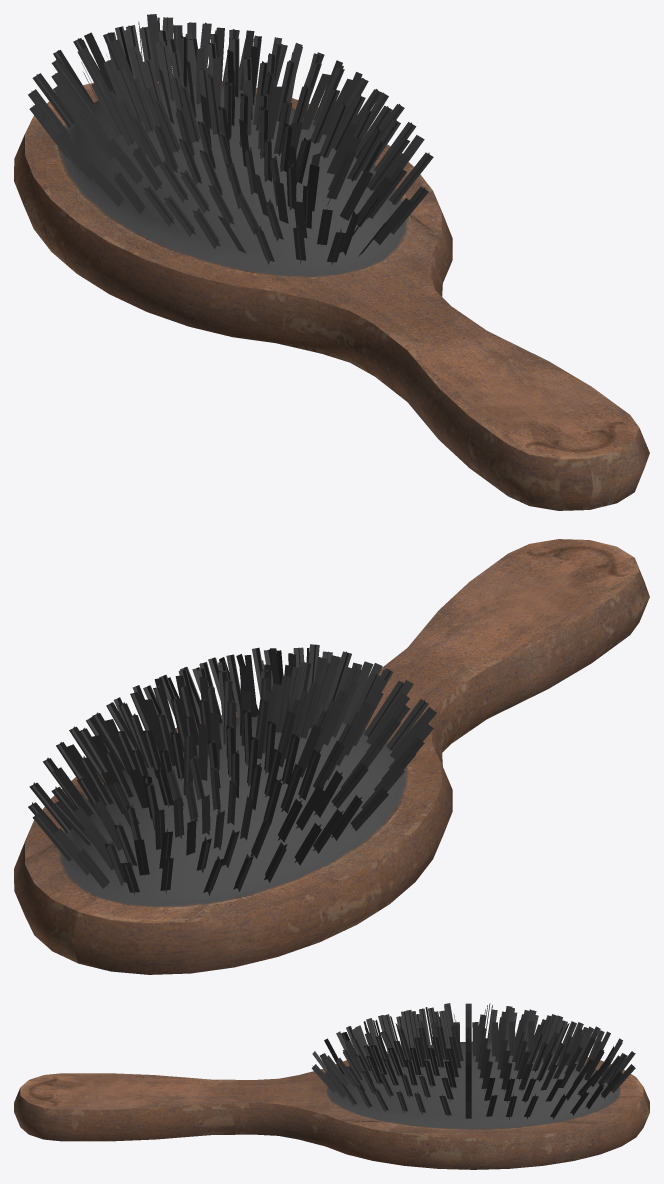
The model's file is SM_HairBrush(1).FBX.
3 views of the same model, one above another, from view 1: azimuth 30°, elevation 25°; view 2: azimuth 150°, elevation 25°; view 3: azimuth 270°, elevation 25° (orthographic). The views are drawn at different scales.
Parts seen in each view (by area): view 1: SM_HairBrush_LOD0; view 2: SM_HairBrush_LOD0; view 3: SM_HairBrush_LOD0.
Part boxes in pixels (x1,y1,x2,y2): SM_HairBrush_LOD0: [14, 14, 649, 510]; SM_HairBrush_LOD0: [14, 539, 649, 974]; SM_HairBrush_LOD0: [14, 1003, 649, 1169].
Size of what is drawn, in the model's own units: 15.32 by 41.53 by 7.5.
